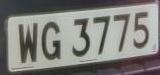3: (71, 15, 94, 59)
5: (130, 7, 154, 52)
7: (110, 9, 133, 54), (91, 12, 113, 56)
G: (39, 18, 64, 65)
W: (15, 20, 41, 68)
